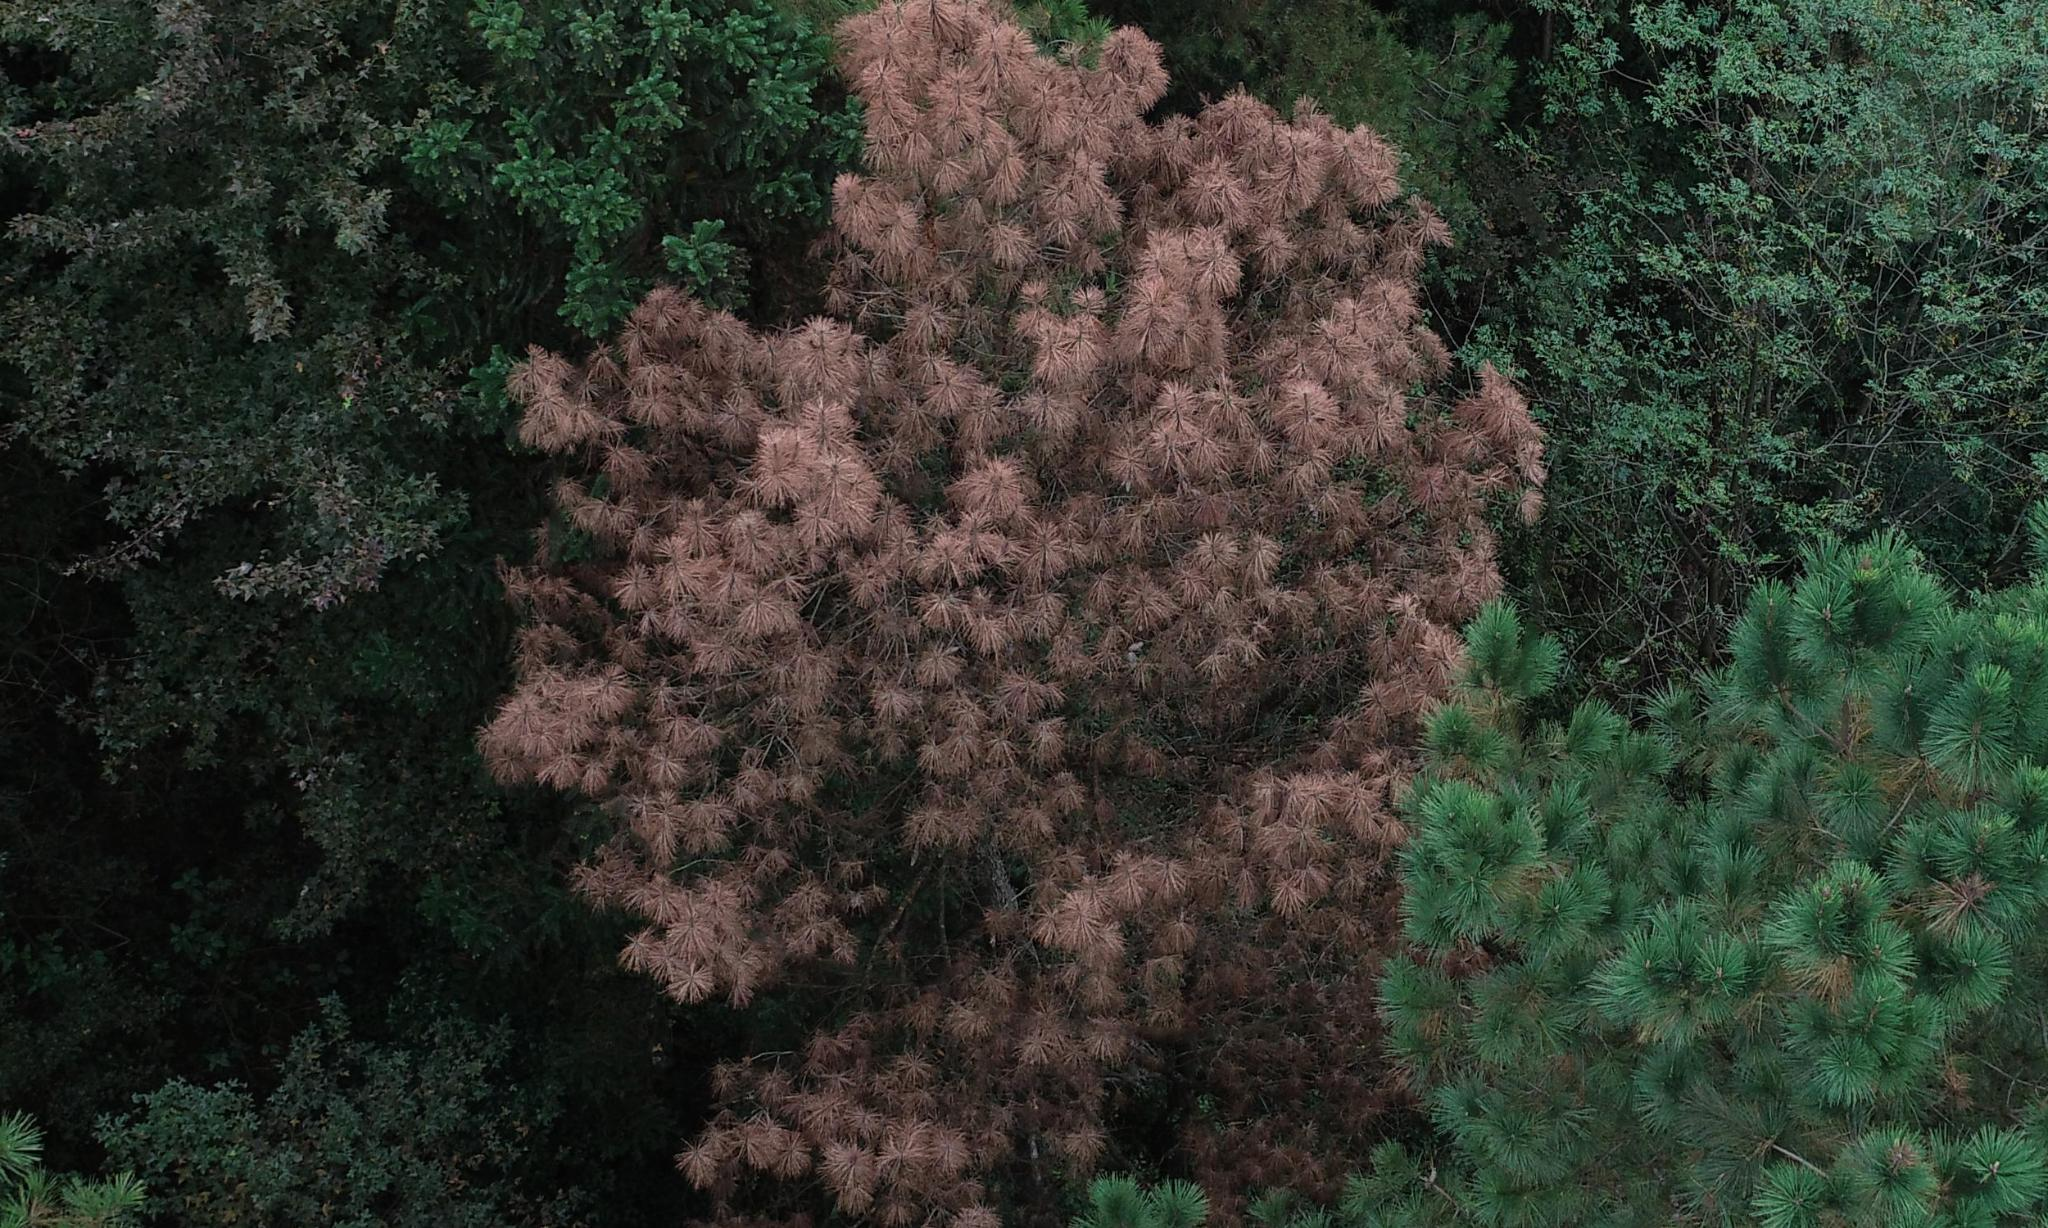heavy: (427, 7, 1604, 1174)
